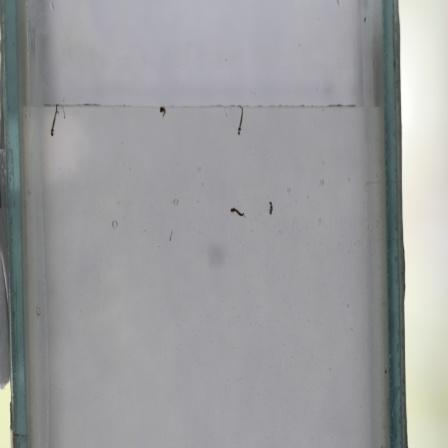Jentik-Nyamuk: (48, 102, 61, 139), (234, 102, 246, 137), (226, 205, 248, 219), (157, 101, 168, 122), (266, 198, 277, 219)
